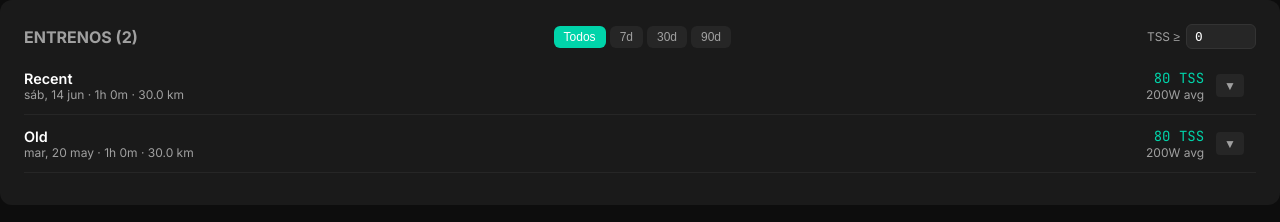
it: WorkoutList › filters workouts by period (7d)
Click the button "7d".
click(626, 36)  # box [610, 26, 643, 48]
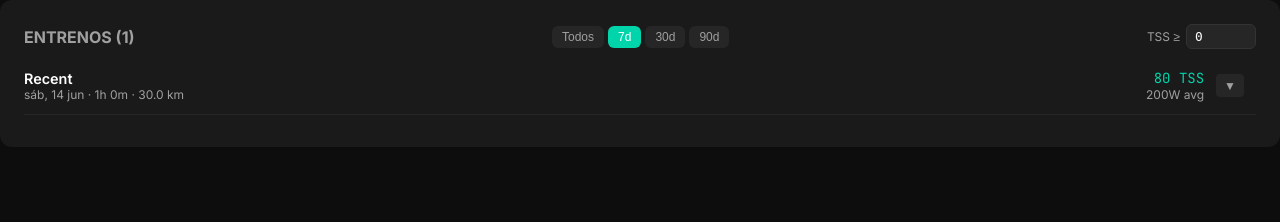
Now the heading "ENTRENOS (1)" is shown, box [24, 26, 135, 46]
Now the text "Old" is gone
